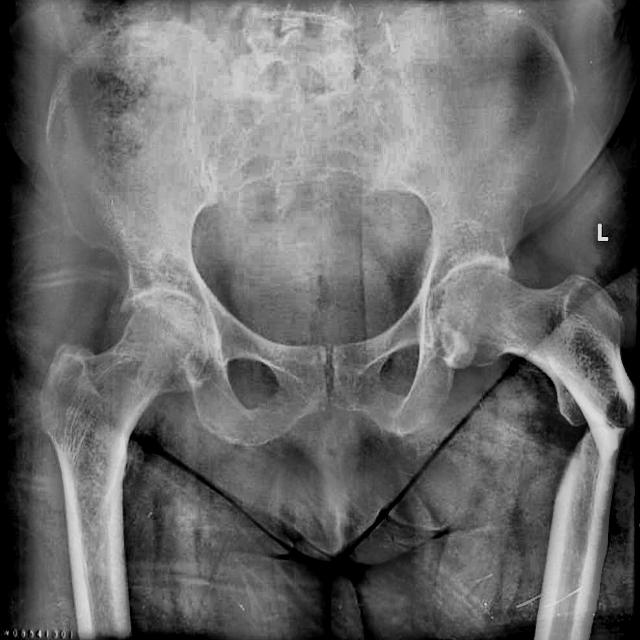messed_up_angle: (554, 397, 639, 494)
